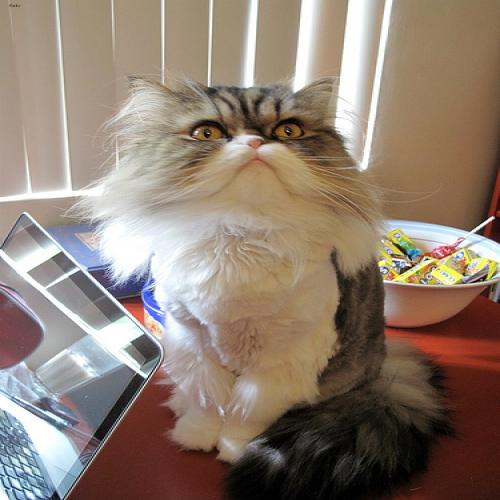persian: (116, 77, 372, 245)
